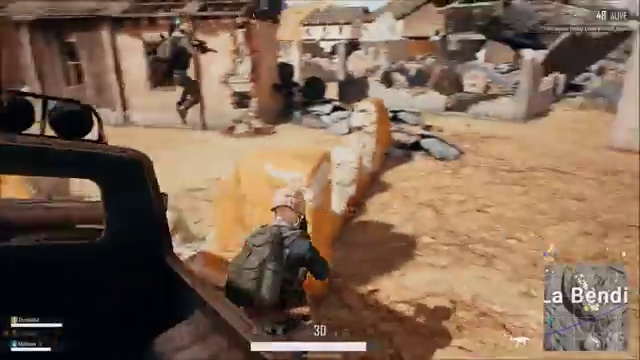Player: (207, 182, 374, 321), (136, 19, 238, 128)
